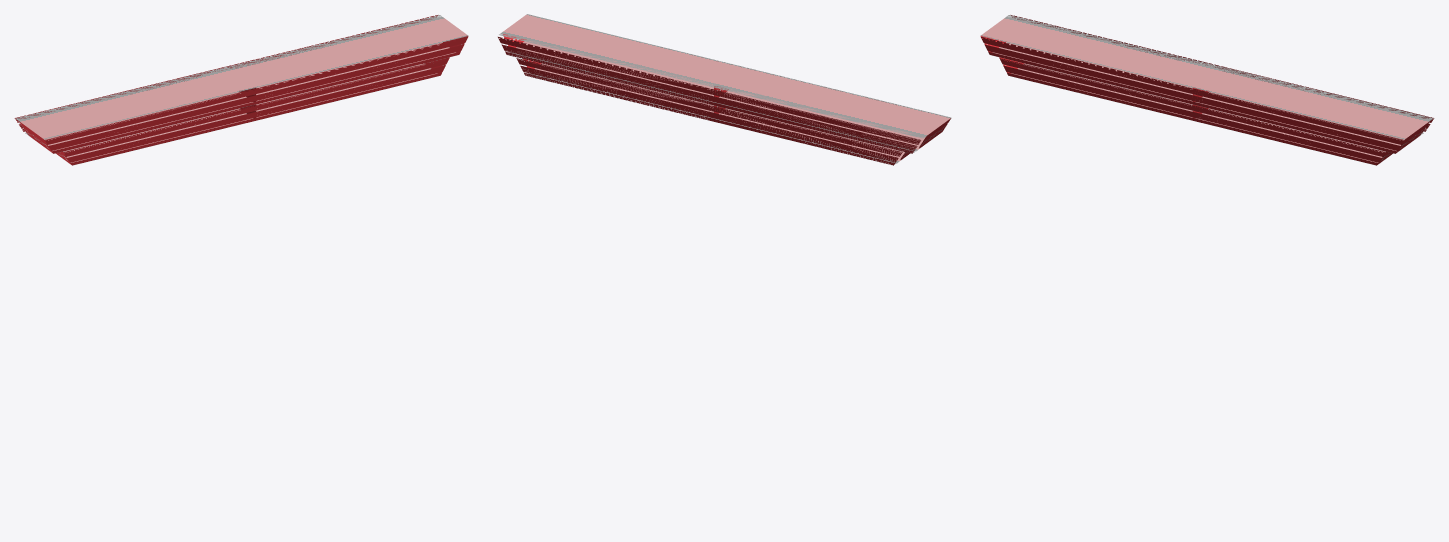
Rendered from gate.obj.
3 renders of one model, left to right at view 1: azimuth 30°, elevation 25°; view 2: azimuth 150°, elevation 25°; view 3: azimuth 330°, elevation 25°, orthographic.
Visible parts, largest first — view 1: Circle; view 2: Circle; view 3: Circle.
Boxes of the visible parts, left/top/right/bottom form: Circle: left=14, top=15, right=468, bottom=165; Circle: left=498, top=14, right=951, bottom=165; Circle: left=980, top=15, right=1434, bottom=165.
Size of the model in its own units: 4.37 by 3.98 by 0.5346.
1 material, 1 textured.
